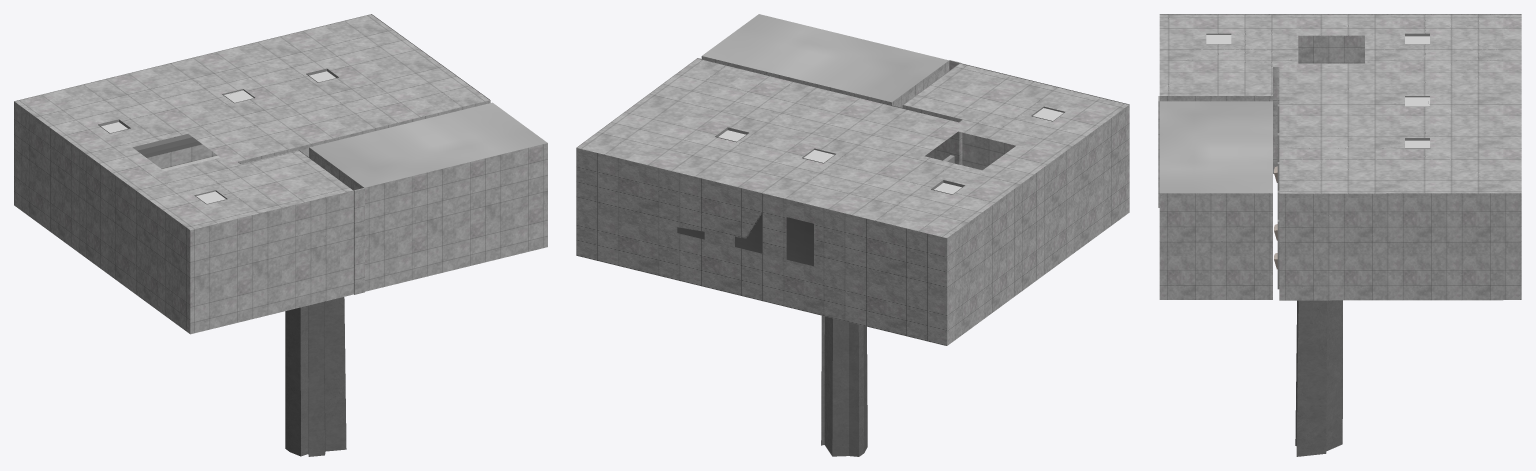
Rendered from Room_4.fbx.
3 renders of one model, left to right at view 1: azimuth 30°, elevation 25°; view 2: azimuth 150°, elevation 25°; view 3: azimuth 270°, elevation 25°, orthographic. The views are drawn at different scales.
Visible parts, largest first — view 1: r_2:group1polySurface2.001, r_2:group1polySurface2.002, r_2:group1polySurface2.003, r_2:group1WashHands.001; view 2: r_2:group1polySurface2.001, r_2:group1polySurface2.002, r_2:group1polySurface2.003, r_2:Mirrorgroup1.001, r_2:Mirrorgroup1.002; view 3: r_2:group1polySurface2.001, r_2:group1polySurface2.002, r_2:group1polySurface2.003.
Part boxes in pixels (x1,y1,x2,y2): r_2:group1polySurface2.001: [14, 14, 547, 456]; r_2:group1polySurface2.002: [15, 14, 489, 230]; r_2:group1polySurface2.003: [98, 68, 338, 204]; r_2:group1WashHands.001: [133, 134, 202, 157]; r_2:group1polySurface2.001: [576, 14, 1129, 456]; r_2:group1polySurface2.002: [577, 58, 1128, 237]; r_2:group1polySurface2.003: [715, 106, 1065, 194]; r_2:Mirrorgroup1.001: [786, 217, 813, 266]; r_2:Mirrorgroup1.002: [735, 212, 762, 253]; r_2:group1polySurface2.001: [1158, 14, 1521, 456]; r_2:group1polySurface2.002: [1159, 14, 1521, 193]; r_2:group1polySurface2.003: [1206, 33, 1429, 148].
Size of the model in its own units: 1320 by 1135 by 1128.
Materials: 5 (4 with a texture image).
